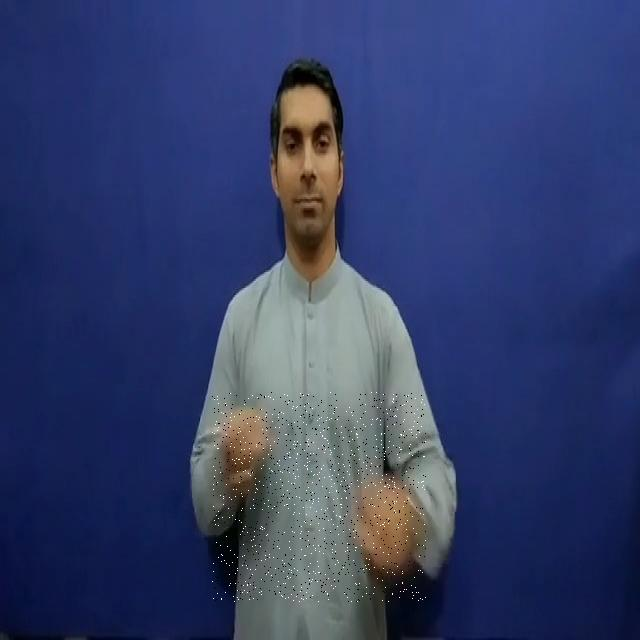manager: (212, 392, 426, 602)
